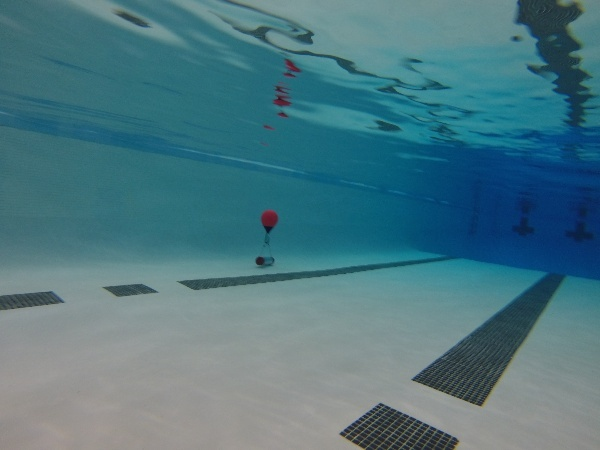buoy_red: (258, 207, 279, 234)
